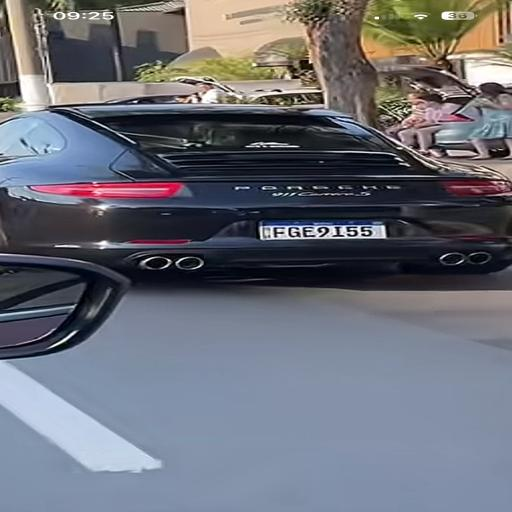detec-o-placas: (220, 201, 426, 279)
